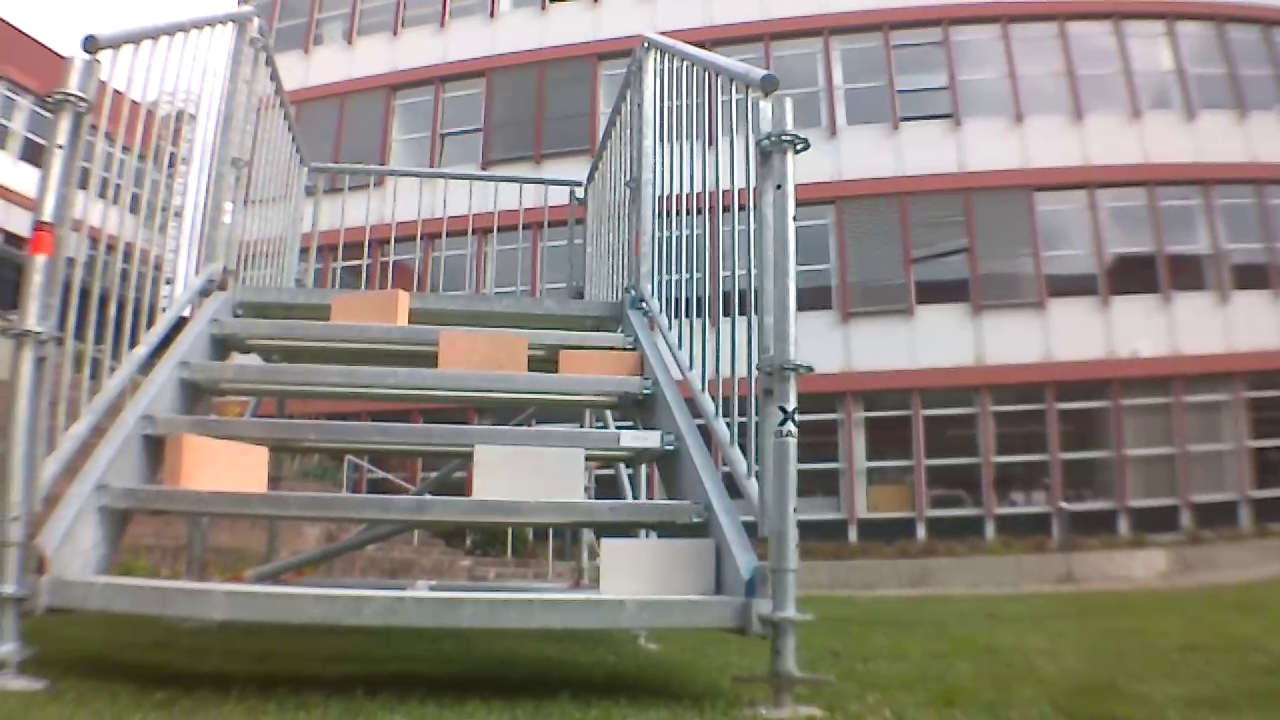brick: (472, 446, 583, 502), (601, 541, 716, 595), (165, 431, 267, 491), (439, 329, 527, 370), (329, 291, 409, 324), (560, 351, 642, 377)
edge: (45, 577, 743, 626), (99, 483, 710, 523), (142, 415, 677, 449), (182, 358, 657, 393), (211, 318, 637, 346), (239, 287, 622, 316)
stairs: (1, 6, 829, 716)
steps: (35, 281, 750, 633)
